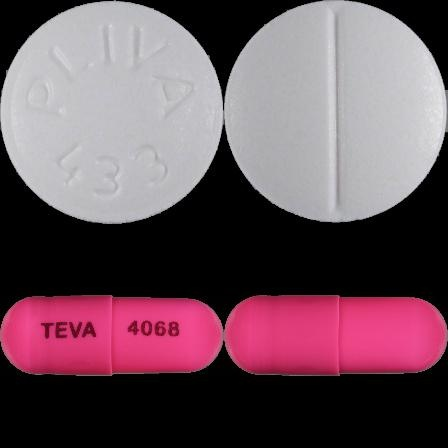68151-2825: (0, 0, 224, 224)
